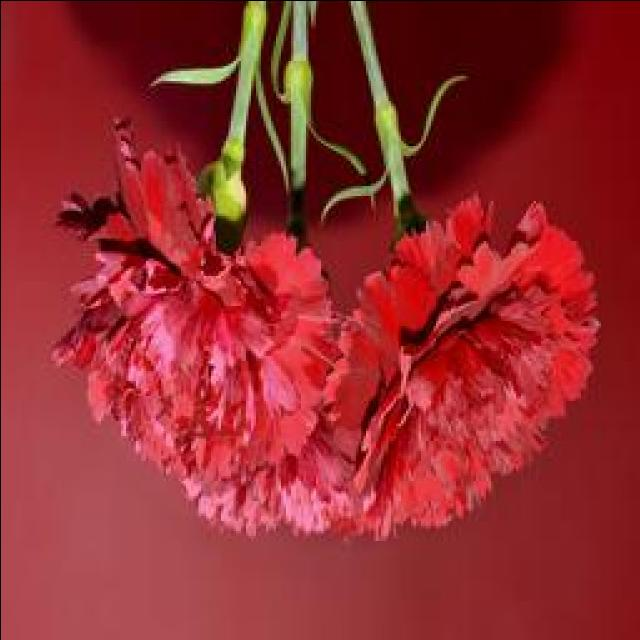carnation: (324, 180, 607, 570)
